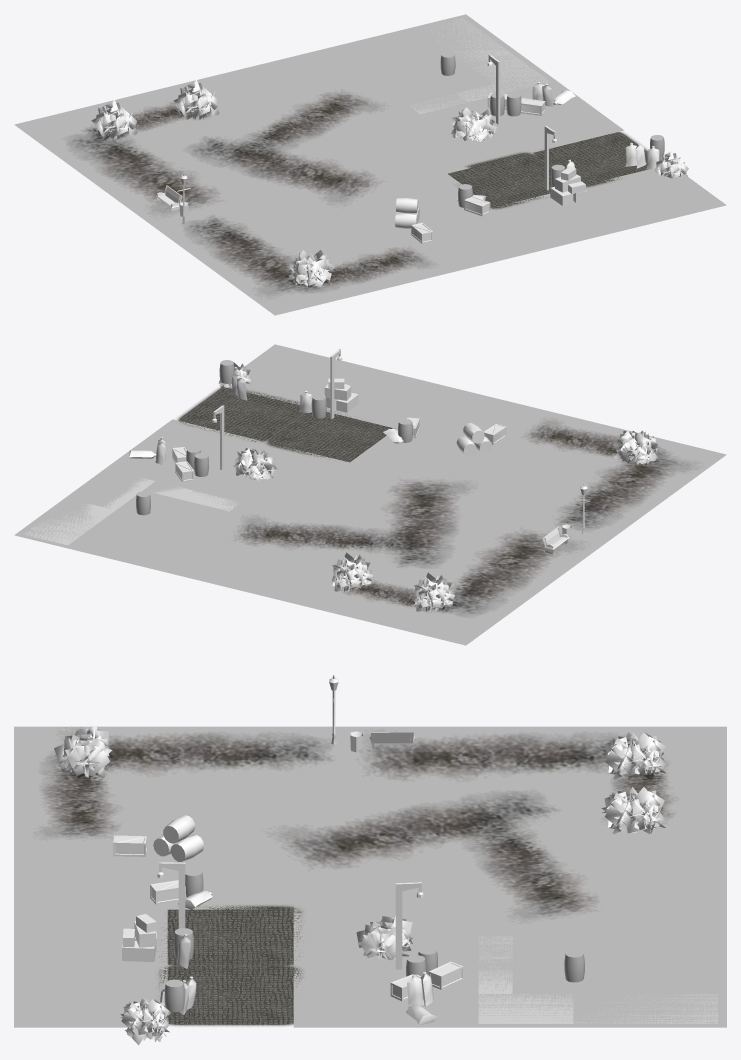
File: propsonly_brew5-corner2.gltf
The picture shows the model from 3 angles, top to bottom: view 1: azimuth 30°, elevation 25°; view 2: azimuth 150°, elevation 25°; view 3: azimuth 270°, elevation 25°; orthographic projection. The views are drawn at different scales.
Visible parts, largest first — view 1: file_b2_ground1.071, file_b2_ground1.061, file_industrial_thin_mid.002, file_b2_ground3.034, file_b2_ground3.037, file_ground.052, file_b2_ground1.063, file_b2_ground3.038, file_industrial_thin_mid, file_b2_ground1.064, file_b2_ground1.062, file_b2_ground1.065 (+28 smaller); view 2: file_b2_ground1.064, file_b2_ground1.061, file_industrial_thin_mid.001, file_b2_ground1.070, file_b2_ground3.034, file_b2_ground3.038, file_b2_ground1.099, file_b2_ground1.062, file_b1_ground.005, prop_darken2.045, file_b2_ground1.063, file_b2_ground1.065 (+27 smaller); view 3: file_b2_ground1.062, file_b2_ground3.038, file_b2_ground1.071, file_b2_ground3.037, file_b2_ground3.034, file_industrial_thin_mid.002, file_b2_ground1.099, file_b2_ground1.064, file_b2_ground1.063, file_b2_ground1.070, file_ground.052, prop_darken2.045 (+35 smaller).
Part boxes in pixels (x1,y1,x2,y2): file_b2_ground1.071: (159,119,301,181); file_b2_ground1.061: (307,230,460,291); file_industrial_thin_mid.002: (586,169,726,228); file_b2_ground3.034: (332,73,481,134); file_b2_ground3.037: (369,14,521,77); file_ground.052: (396,208,548,271); file_b2_ground1.063: (116,178,269,240); file_b2_ground3.038: (280,36,426,96); file_industrial_thin_mid: (489,189,628,250); file_b2_ground1.064: (171,215,315,277); file_b2_ground1.062: (219,154,349,218); file_b2_ground1.065: (243,95,381,153); file_b2_ground1.064: (522,472,675,533); file_b2_ground1.061: (493,409,632,473); file_industrial_thin_mid.001: (303,463,436,527); file_b2_ground1.070: (200,539,330,602); file_b2_ground3.034: (154,482,307,543); file_b2_ground3.038: (112,516,245,580); file_b2_ground1.099: (437,547,572,607); file_b2_ground1.062: (391,484,526,546); file_b1_ground.005: (345,427,497,485); prop_darken2.045: (391,481,464,566); file_b2_ground1.063: (471,509,623,566); file_b2_ground1.065: (257,506,392,563); file_b2_ground1.062: (293,785,447,850); file_b2_ground3.038: (573,903,726,968); file_b2_ground1.071: (433,785,587,850); file_b2_ground3.037: (573,963,726,1027); file_b2_ground3.034: (433,903,587,968); file_industrial_thin_mid.002: (14,963,167,1027); file_b2_ground1.099: (433,726,586,791); file_b2_ground1.064: (153,726,307,791); file_b2_ground1.063: (293,726,447,791); file_b2_ground1.070: (573,847,726,909); file_ground.052: (14,844,167,909); prop_darken2.045: (284,792,554,867).
Size of what is drawn, in the model's own units: 5.24 by 0.8508 by 5.1.
